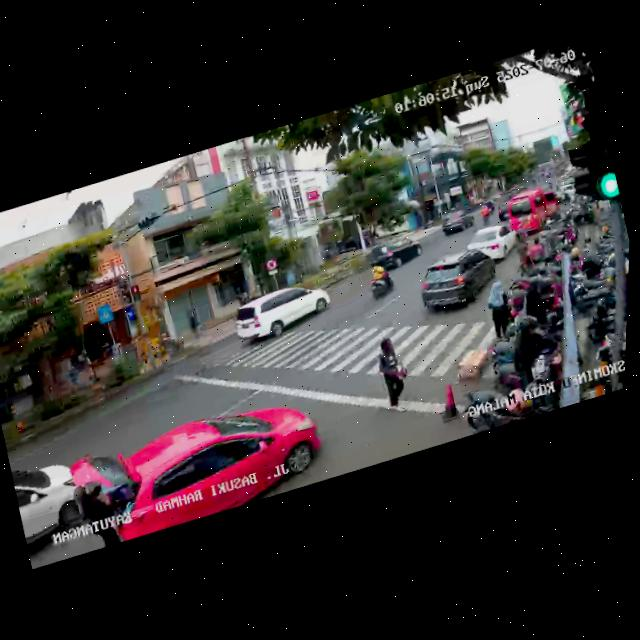car: (92, 383, 332, 545), (8, 453, 91, 560), (229, 275, 334, 352), (409, 240, 504, 324), (503, 180, 567, 240), (461, 219, 521, 270), (368, 227, 425, 274), (438, 206, 478, 238), (495, 200, 517, 222)
motorcycle: (362, 255, 398, 304), (477, 200, 494, 225)
person: (369, 329, 417, 411), (478, 275, 518, 343)
